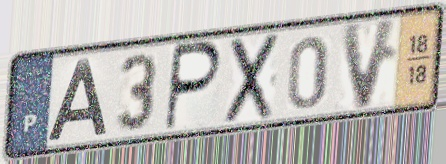0: (284, 33, 334, 111)
3: (114, 51, 159, 133)
A: (43, 57, 110, 145)
P: (162, 38, 225, 135)
V: (339, 14, 402, 114)
X: (221, 30, 282, 128)
